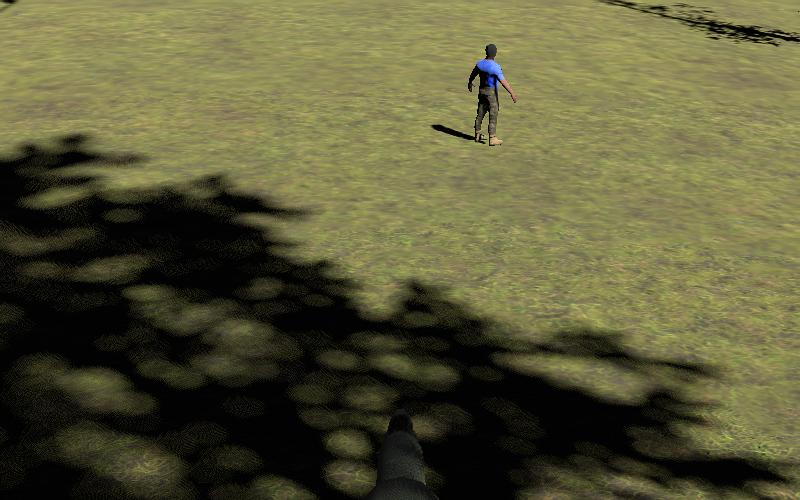Human: (468, 43, 516, 147)
